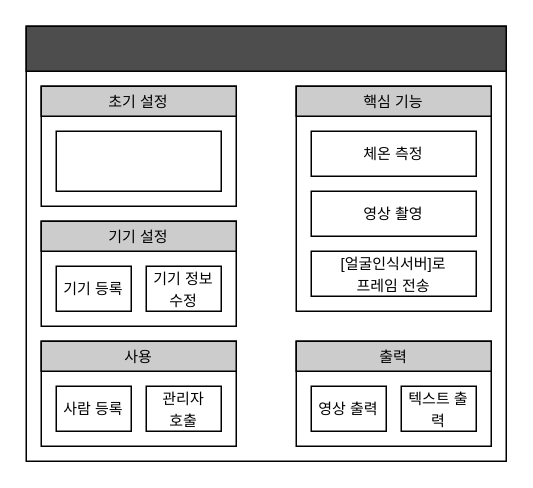
Some shapes in this 533 by 488 pixel diagram are drawn without their labels. Each missing label, with the box of its shape:
서버 설정 (서버 주소 입력 등): (55, 130, 221, 191)
클라이언트: (25, 25, 506, 71)
